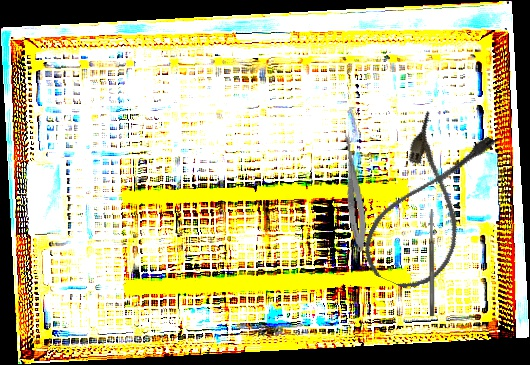Cannula: (354, 108, 502, 301)
Micro Scissor: (336, 128, 371, 253)
Spatula Surgical: (429, 209, 435, 316)
